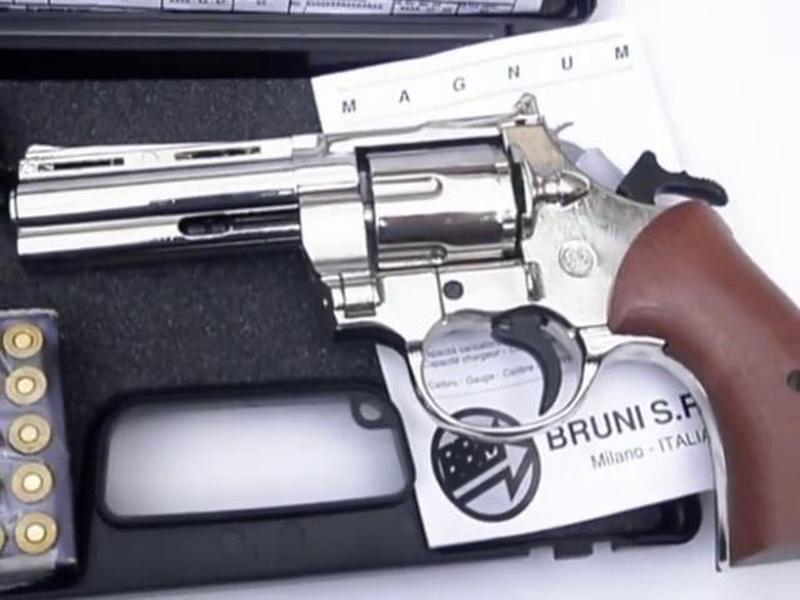Revolver: (7, 114, 799, 450)
